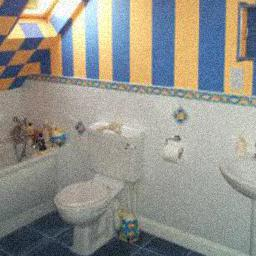Lavamanos: (222, 142, 256, 256)
Sanitario: (56, 124, 150, 256)
